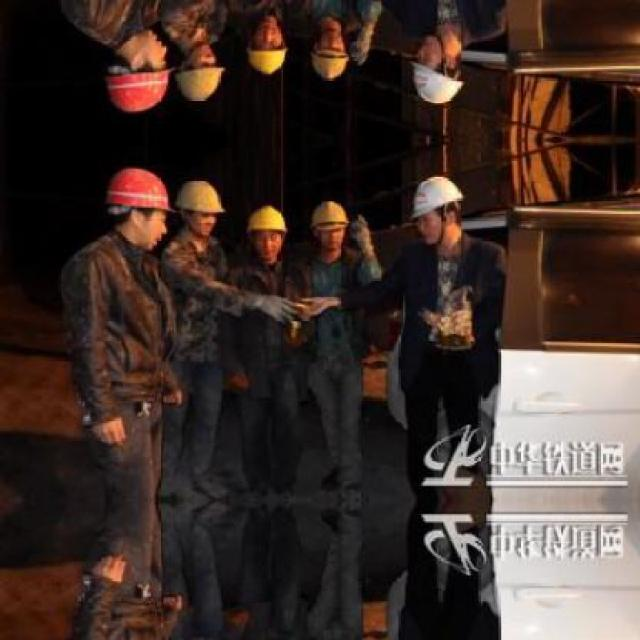helmet: (101, 169, 173, 243), (101, 37, 173, 111), (171, 175, 226, 240), (171, 40, 226, 105), (411, 174, 463, 240), (411, 40, 463, 106), (241, 202, 288, 263), (241, 17, 288, 78), (306, 197, 352, 255), (306, 25, 352, 83)
